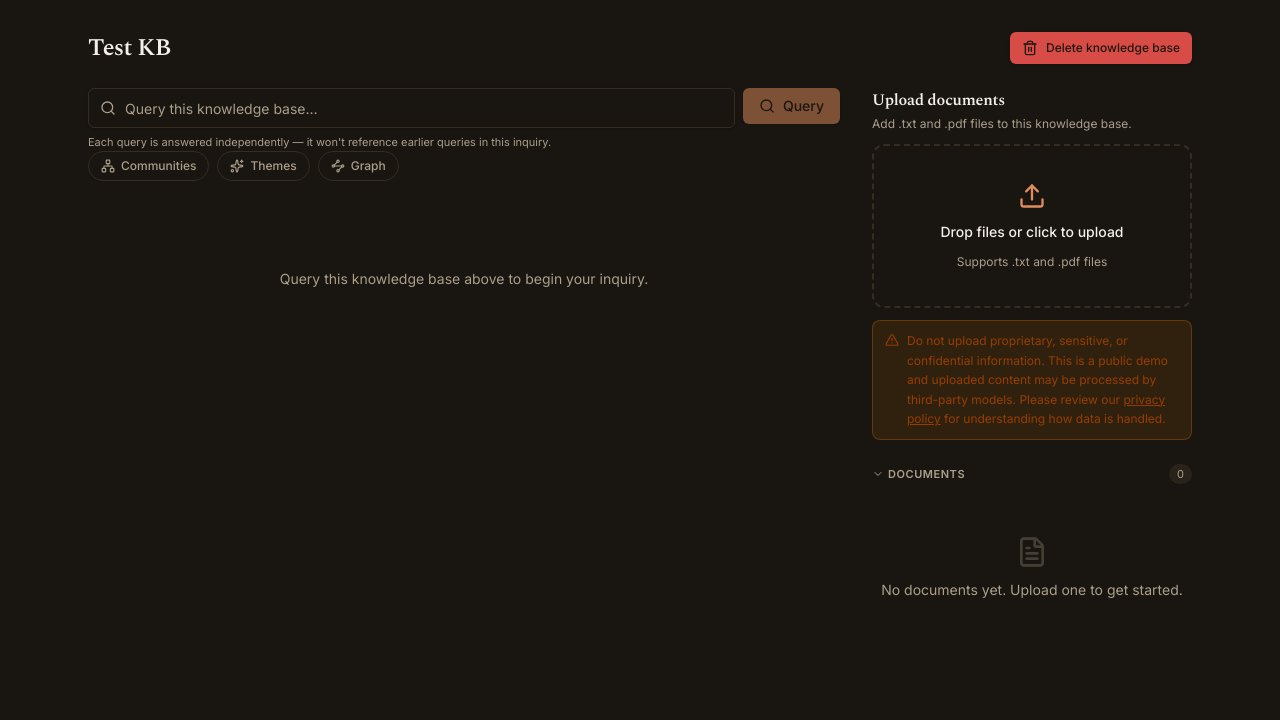
Test: KBDetailPage › explore section › communities panel › shows the plain-language result, not raw stats, once communities have been computed
Click the button "Communities" at (149, 166), box [88, 150, 210, 180]
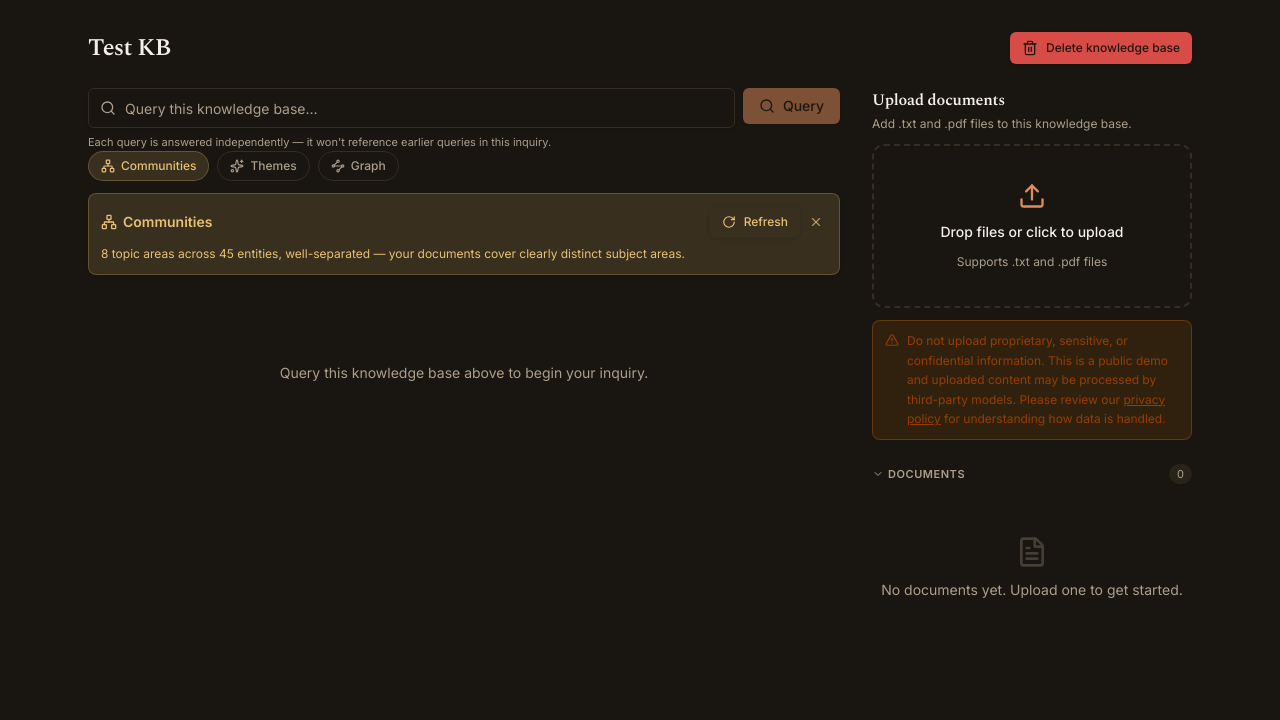
Result: the text "8 topic areas across 45 entities" shows "well-separated" at [101, 246, 685, 260]
Result: the button "Refresh" is shown at [709, 206, 801, 238]
